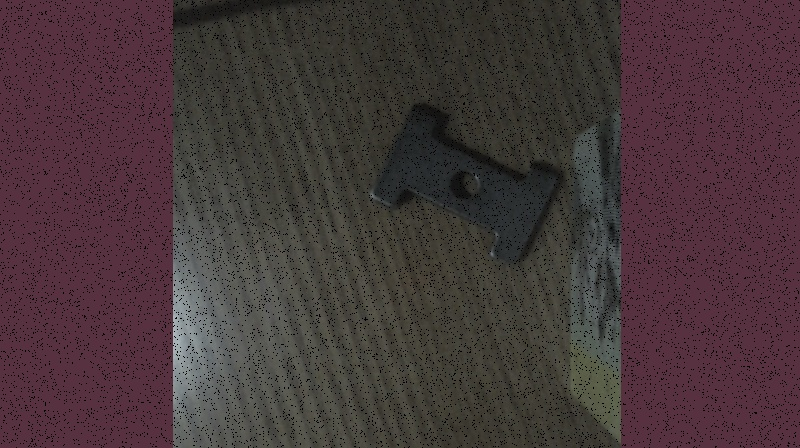O002: (366, 99, 562, 264)
